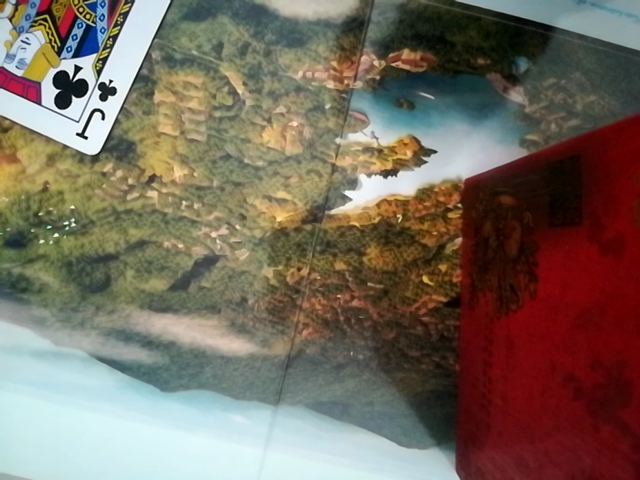mh j: (0, 0, 209, 161)
